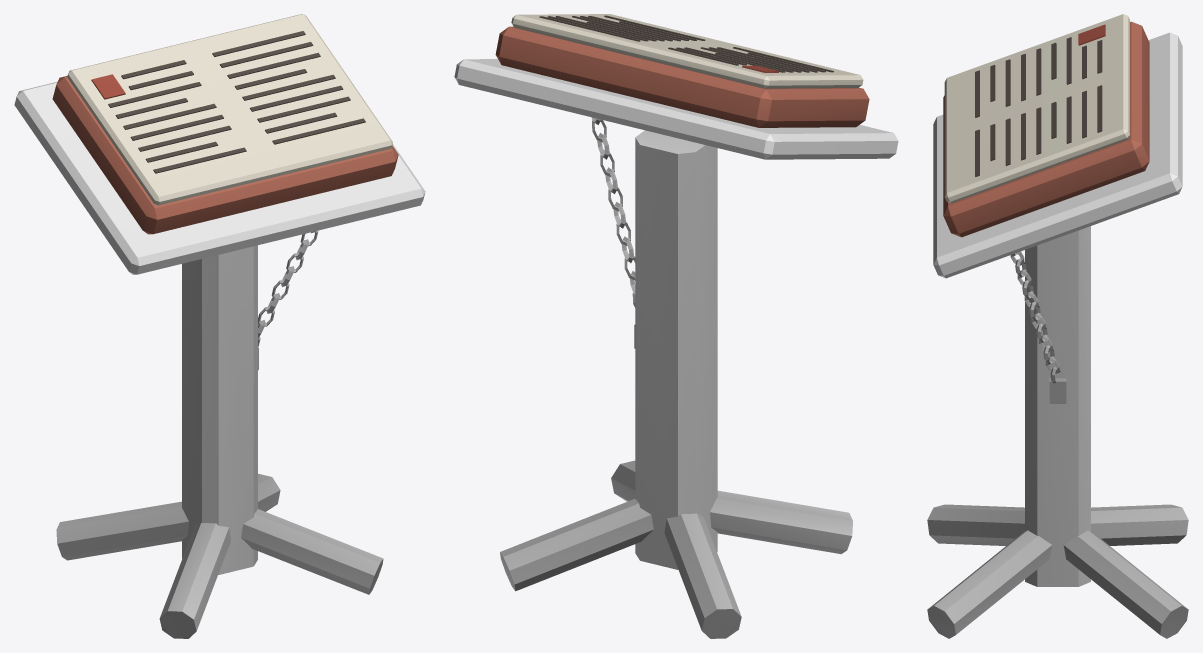
The model's file is chained_book.glb.
The picture shows the model from 3 angles, left to right: view 1: azimuth 30°, elevation 25°; view 2: azimuth 150°, elevation 25°; view 3: azimuth 270°, elevation 25°; orthographic projection. The views are drawn at different scales.
Parts seen in each view (by area): view 1: big_book; view 2: big_book; view 3: big_book.
Boxes of the visible parts, box(x1,y1,x2,y2) form: big_book: box(14, 14, 425, 638); big_book: box(454, 14, 898, 638); big_book: box(927, 14, 1188, 638).
Bounding box in the file's own units: 0.84 × 1.39 × 0.6352.
